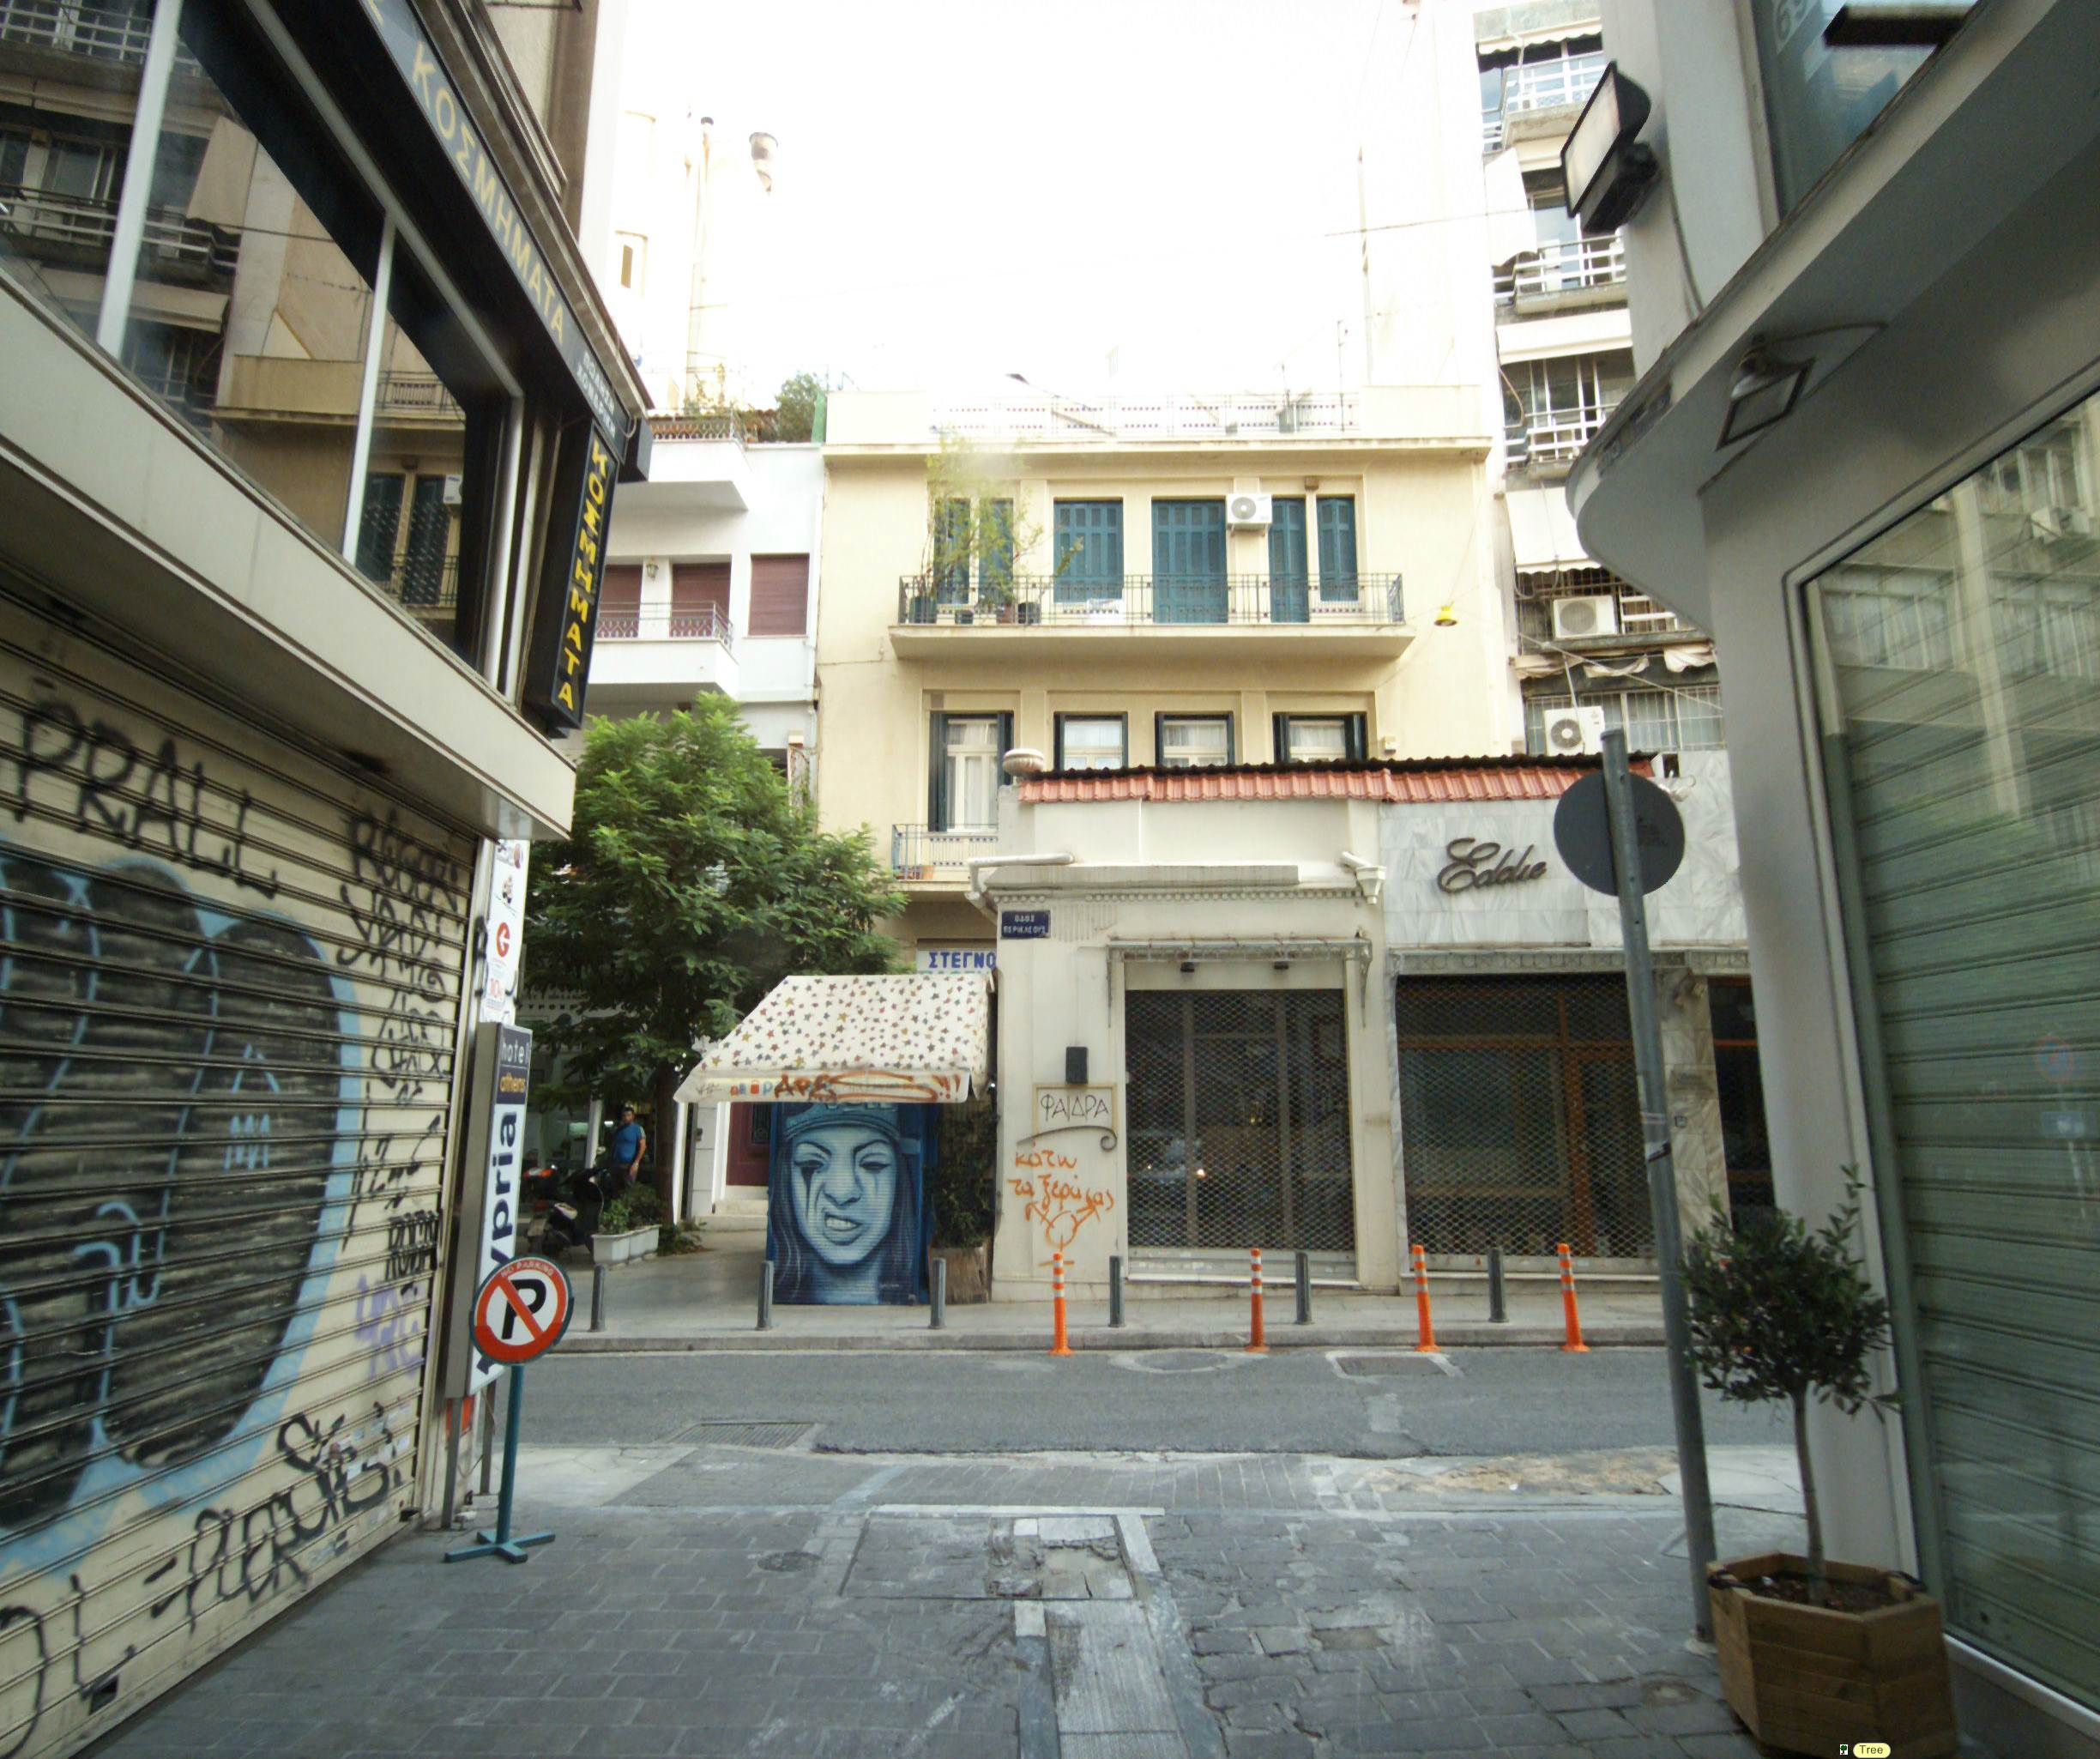tree: (1669, 1113, 1976, 1693)
